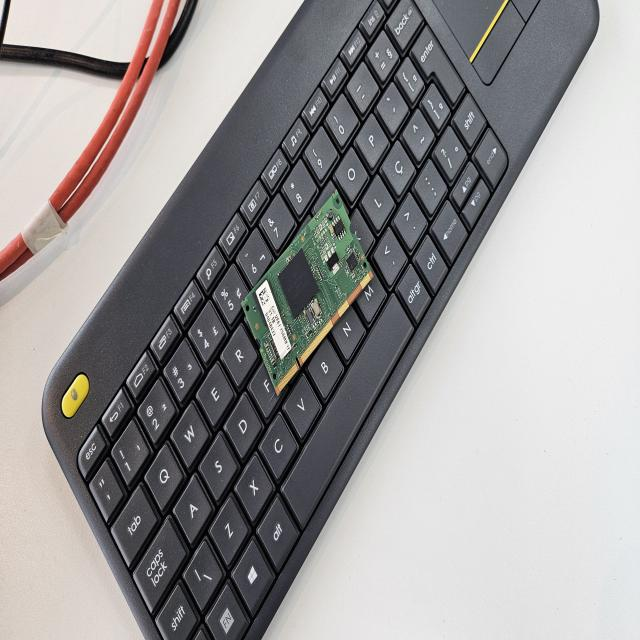som: (234, 190, 379, 398)
